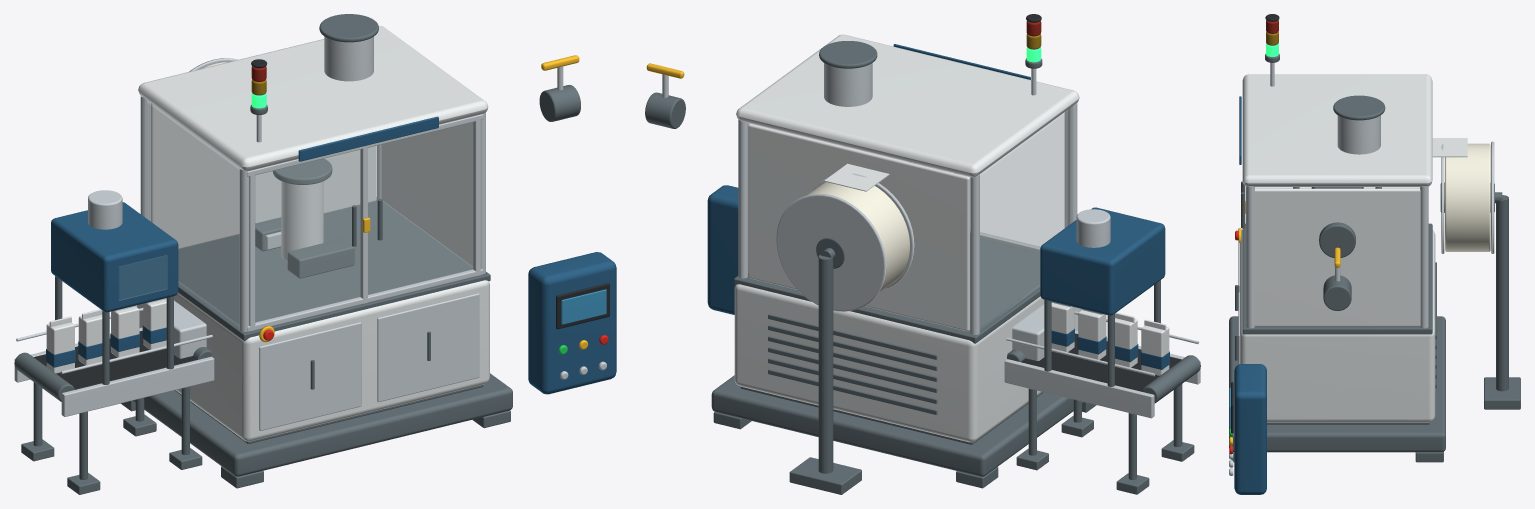
3 renders of one model, left to right at view 1: azimuth 30°, elevation 25°; view 2: azimuth 150°, elevation 25°; view 3: azimuth 270°, elevation 25°, orthographic. The views are drawn at different scales.
Parts seen in each view (by area): view 1: body; view 2: body; view 3: body.
Boxes of the visible parts, x1,y1,x2,y2 form: body: (14,14,616,494); body: (645,14,1200,494); body: (1229,14,1520,494).
Bounding box in the file's own units: 5.05 × 3.55 × 2.69.
